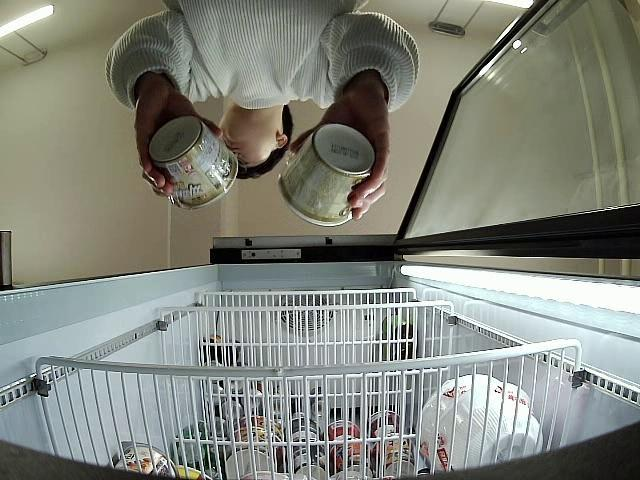04_chapagetti_S: (278, 125, 374, 226), (150, 116, 239, 210)
